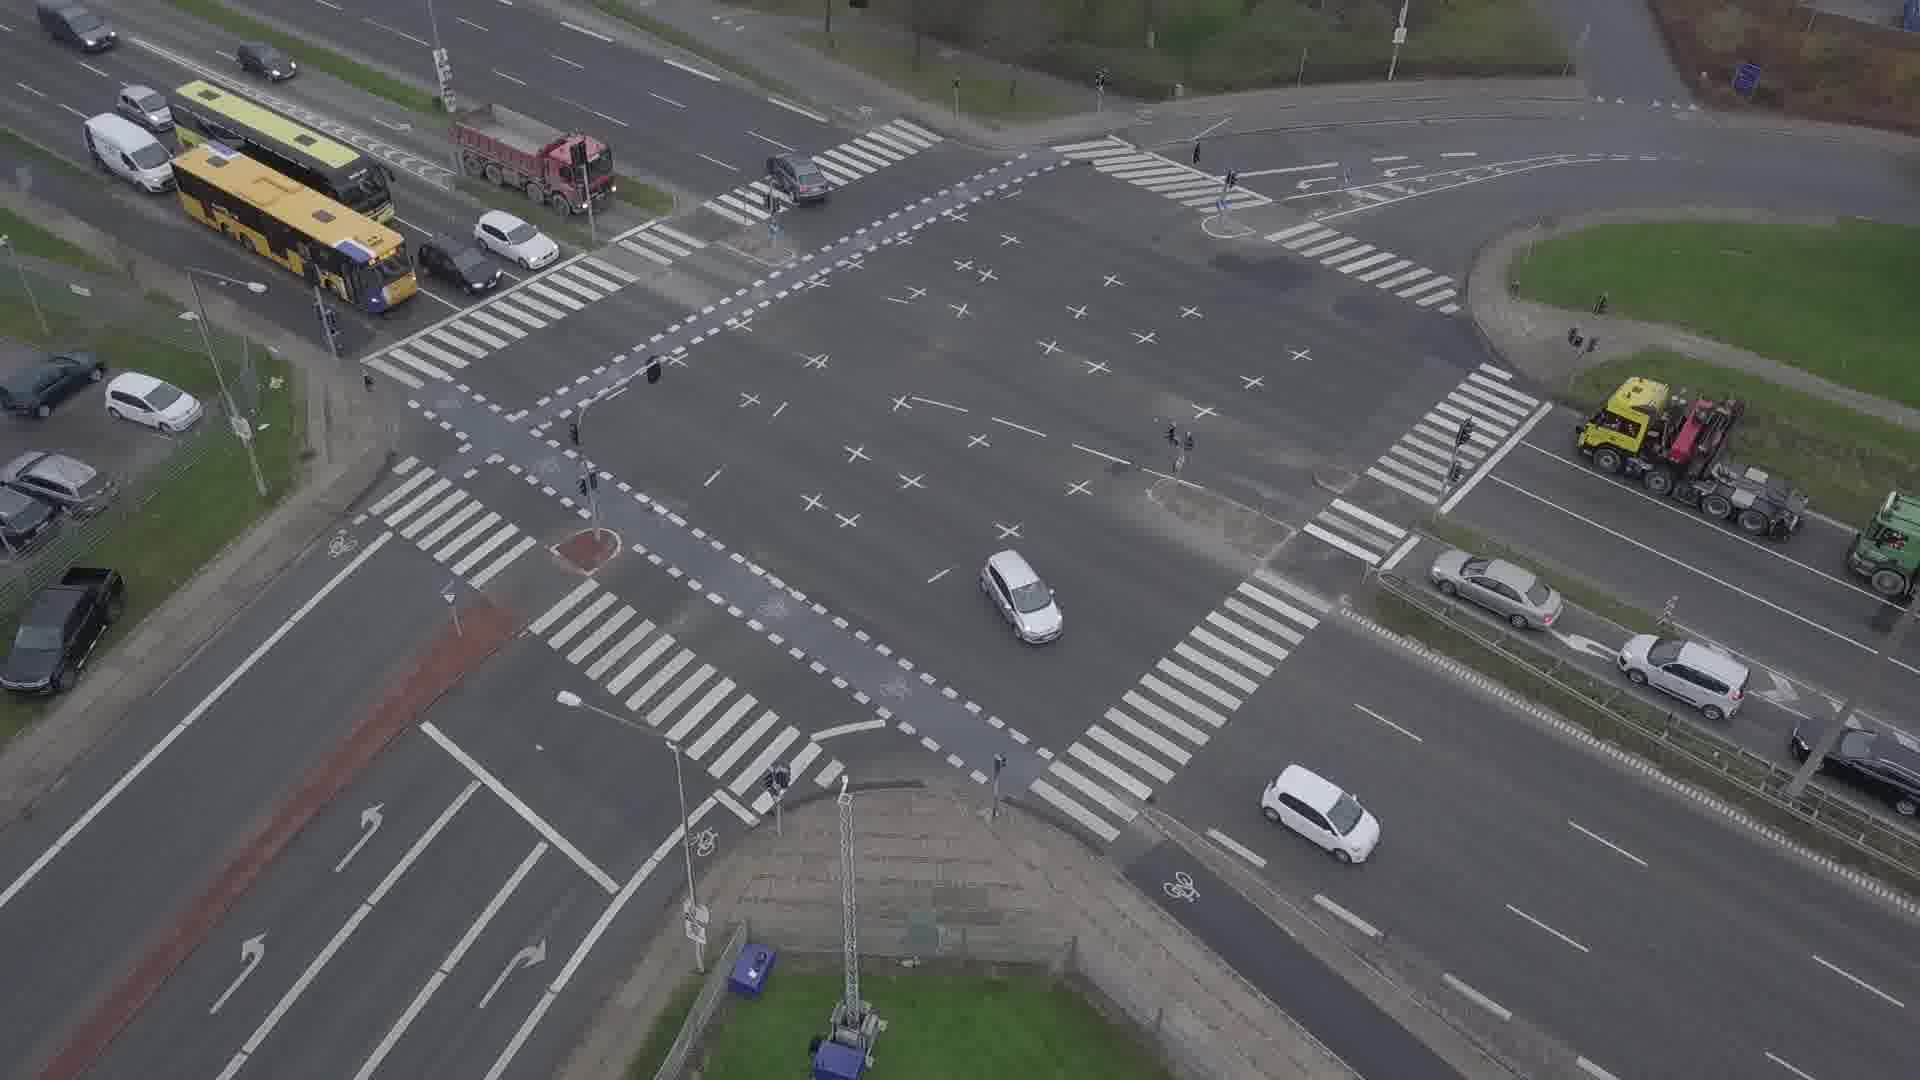bus: (169, 140, 417, 313), (175, 78, 397, 223)
car: (1791, 717, 1920, 815), (1261, 764, 1381, 864), (1616, 634, 1752, 722), (1430, 551, 1566, 632), (980, 549, 1063, 644), (417, 233, 505, 295), (472, 208, 559, 270), (36, 0, 116, 53), (764, 152, 828, 202), (234, 38, 298, 84), (118, 83, 168, 130)
lorry: (1575, 373, 1812, 539), (448, 100, 617, 218), (82, 112, 166, 193)
